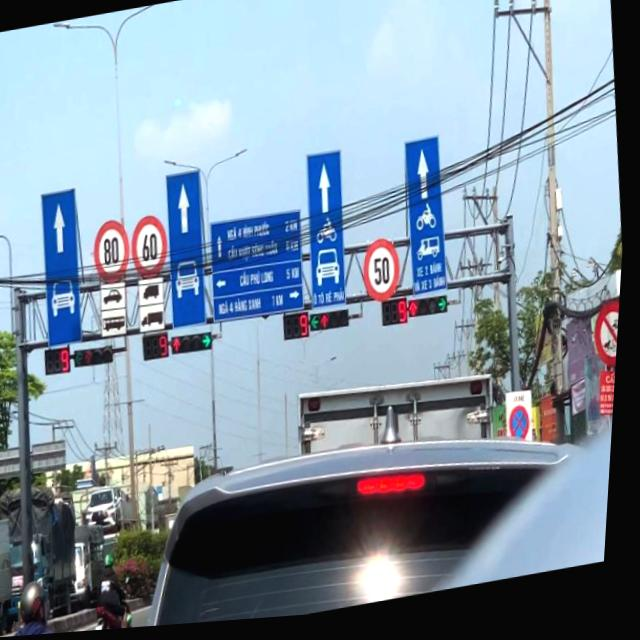Cam dung xe va do xe: (511, 410, 539, 453)
Toc do toi da cho phep: (362, 240, 408, 314), (131, 213, 175, 285), (93, 216, 137, 287)
